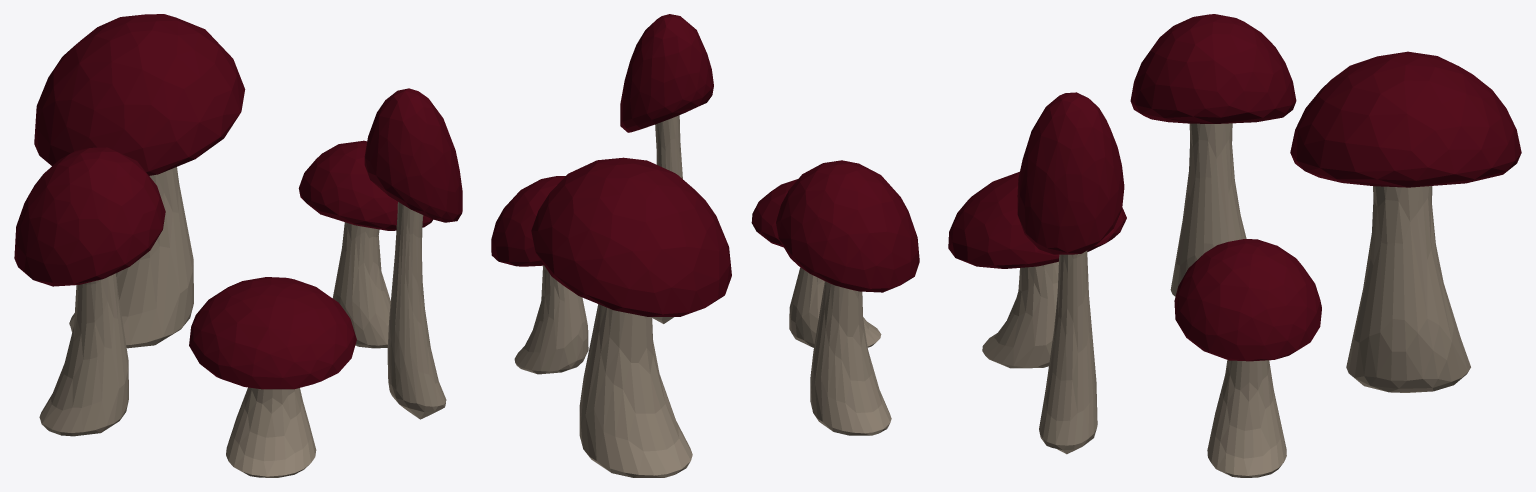
Rendered from mushroom3.fbx.
The picture shows the model from 3 angles, left to right: view 1: azimuth 30°, elevation 25°; view 2: azimuth 150°, elevation 25°; view 3: azimuth 270°, elevation 25°; orthographic projection. The views are drawn at different scales.
Visible parts, largest first — view 1: mushroom.002; view 2: mushroom.002; view 3: mushroom.002.
Boxes of the visible parts, x1,y1,x2,y2 form: mushroom.002: (14, 14, 462, 477); mushroom.002: (491, 14, 919, 477); mushroom.002: (948, 14, 1521, 477).
Size of the model in its own units: 57.41 by 44.19 by 63.45.
